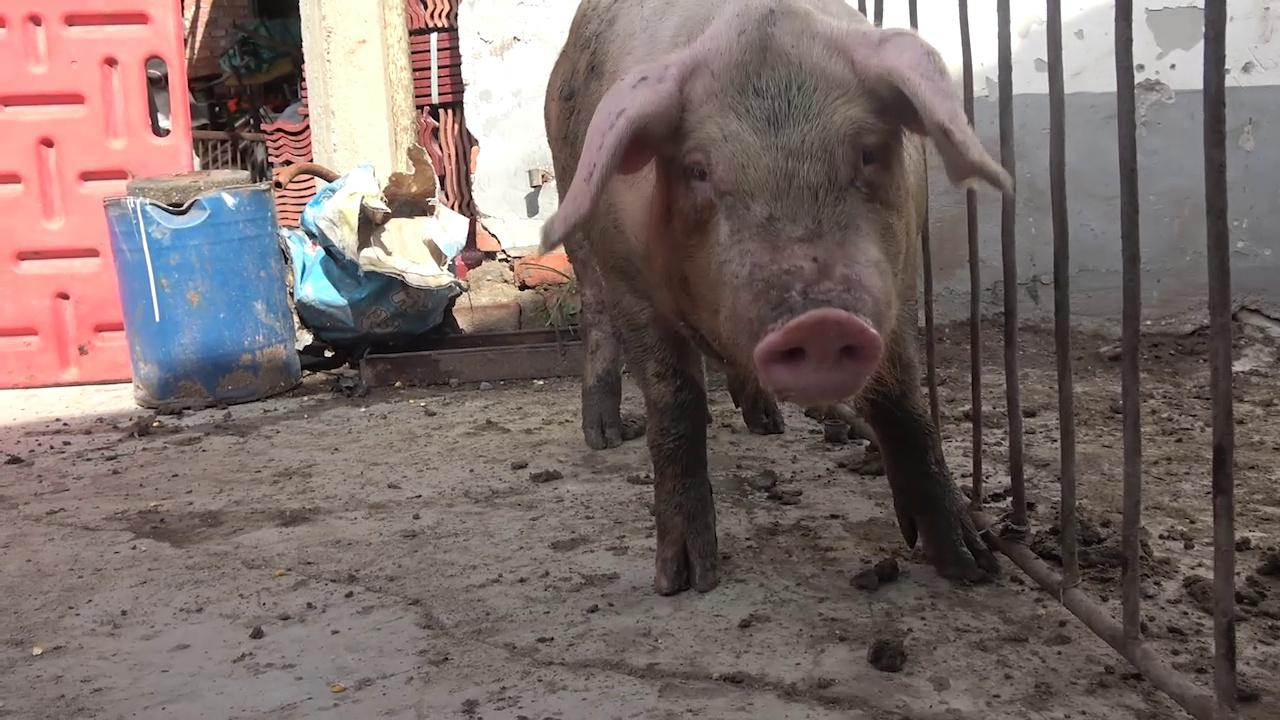Face: (529, 5, 1032, 426)
